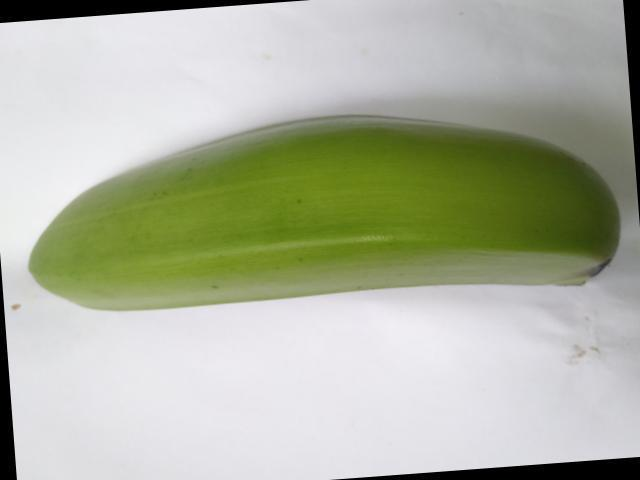freshunripe: (10, 90, 623, 310)
